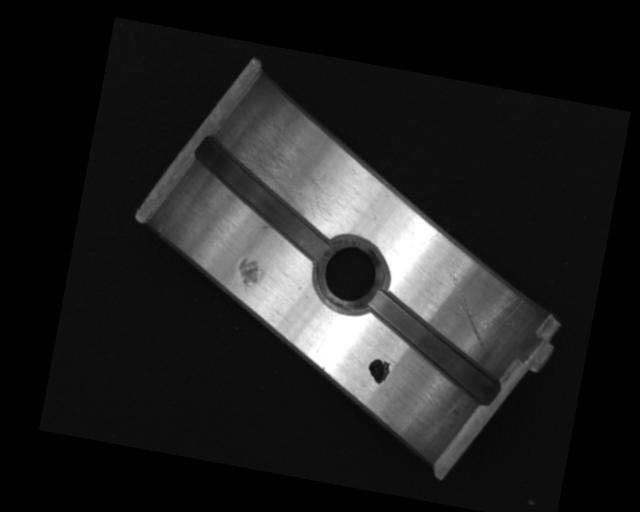blot: (365, 356, 392, 386)
bruise: (233, 255, 264, 295)
gap: (180, 133, 343, 264), (355, 290, 511, 407)
hole: (311, 230, 391, 318)
nick: (436, 269, 497, 350)
scratch: (217, 109, 347, 221)
